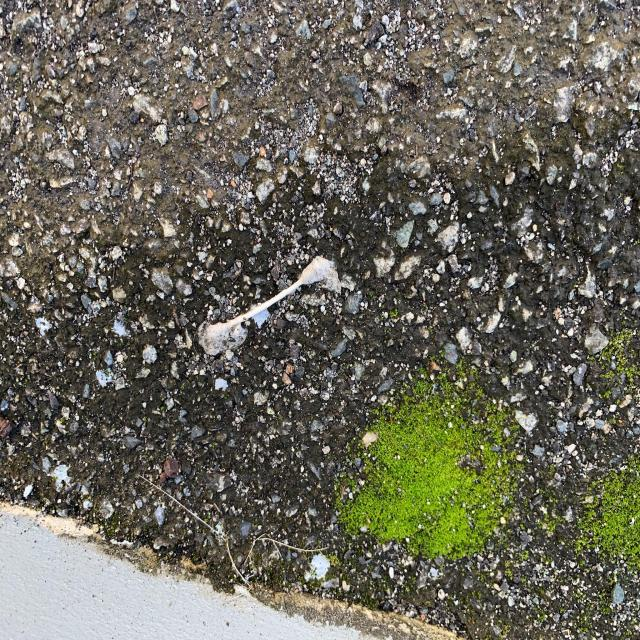litter: (199, 253, 334, 351)
